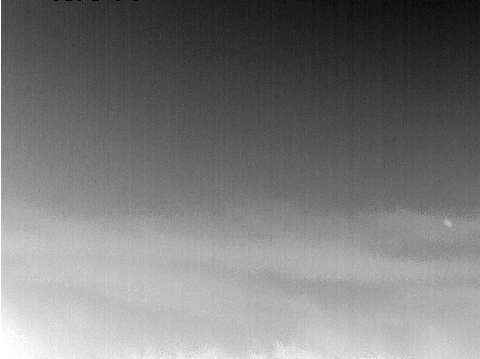dim target: (444, 219, 453, 228)
